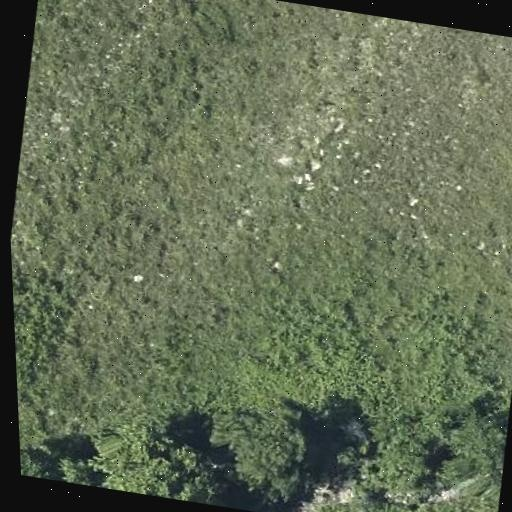tree-top: (205, 402, 322, 512), (88, 424, 230, 506), (361, 427, 446, 505), (455, 401, 512, 485), (19, 438, 67, 481)
